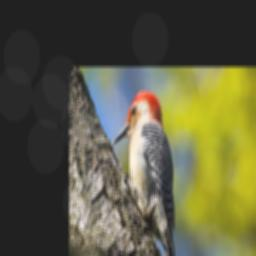Woodpecker: (110, 90, 176, 256)
